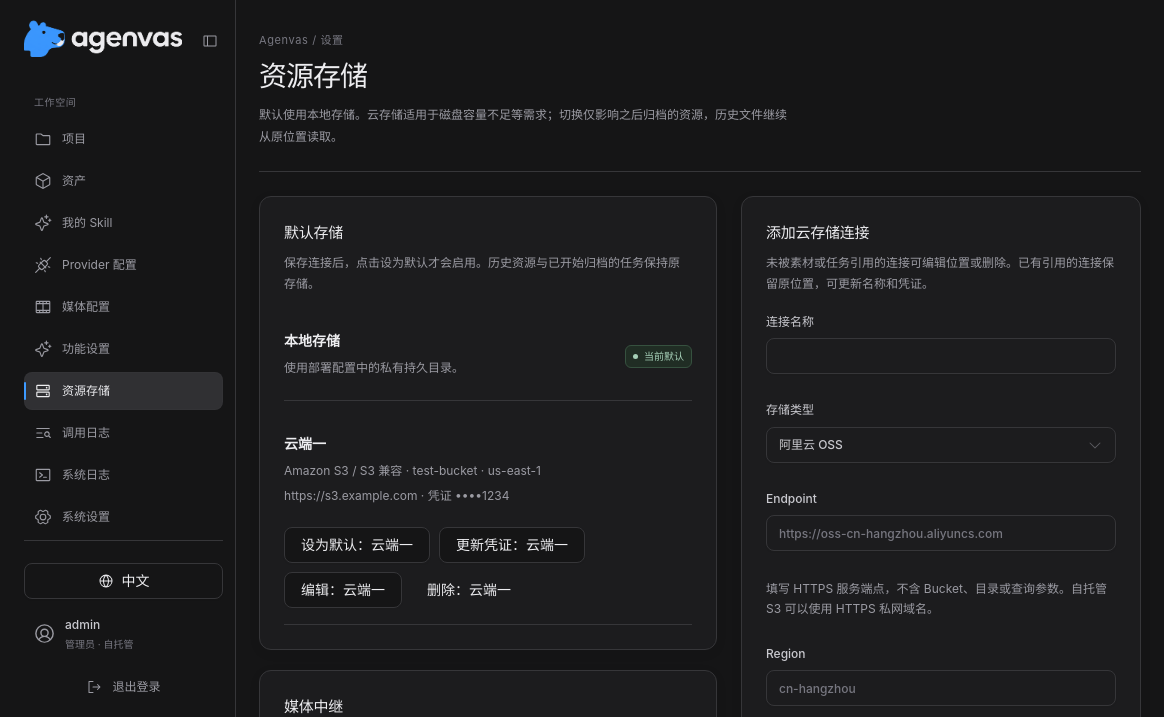
Test: StorageSettingsPage › explicitly switches to cloud and back to local using the current CAS version
Click the button "设为默认：云端一". click: coordinates (357, 545)
box: x1=284 y1=527 x2=430 y2=563
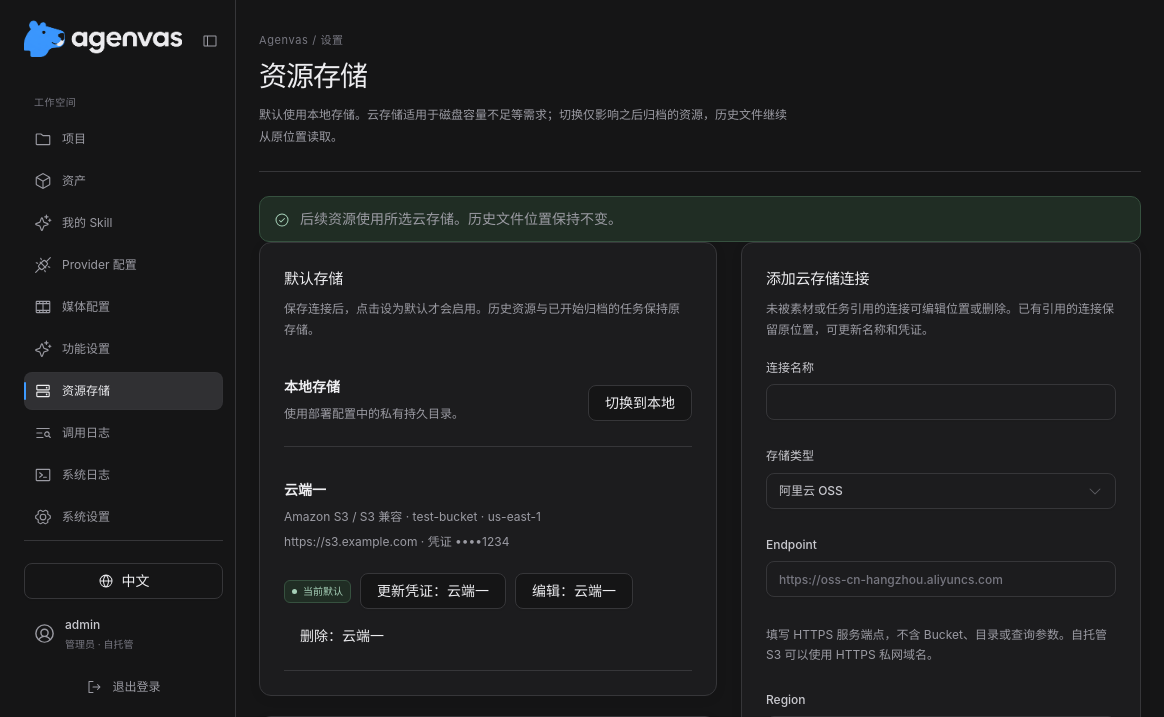
Click the button "切换到本地". click: coordinates (640, 403)
box: x1=588 y1=385 x2=692 y2=421
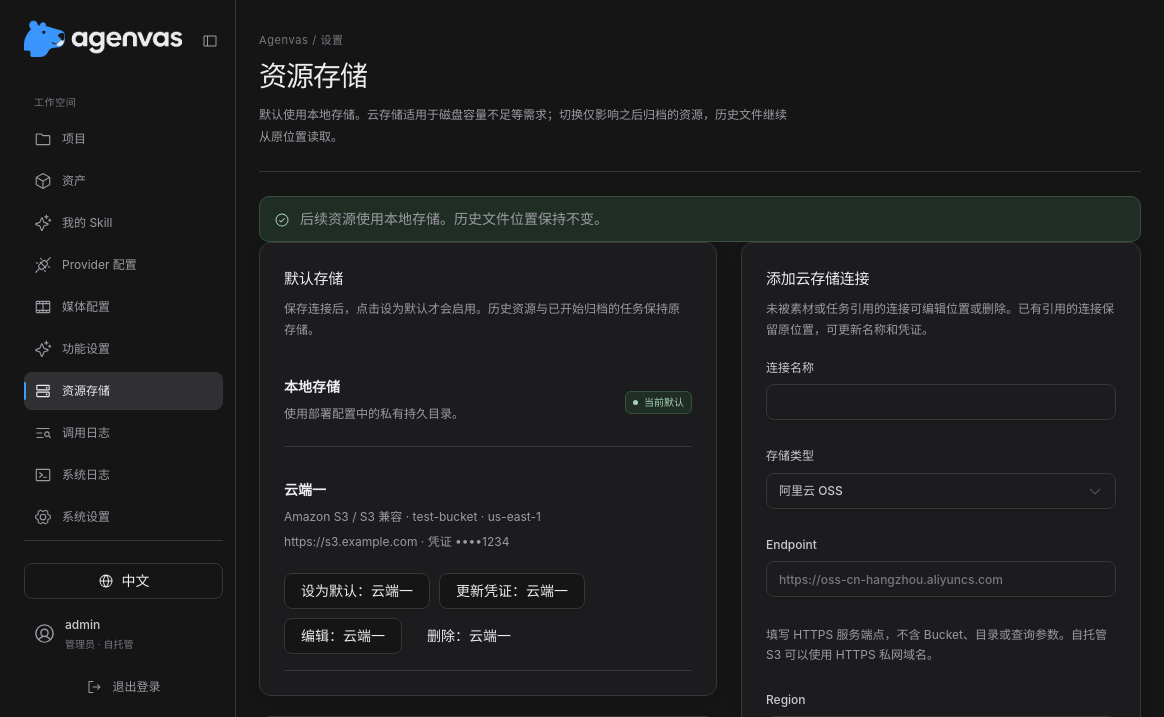
Check: the text "后续资源使用本地存储。历史文件位置保持不变。" is shown, box x1=300 y1=209 x2=608 y2=229
